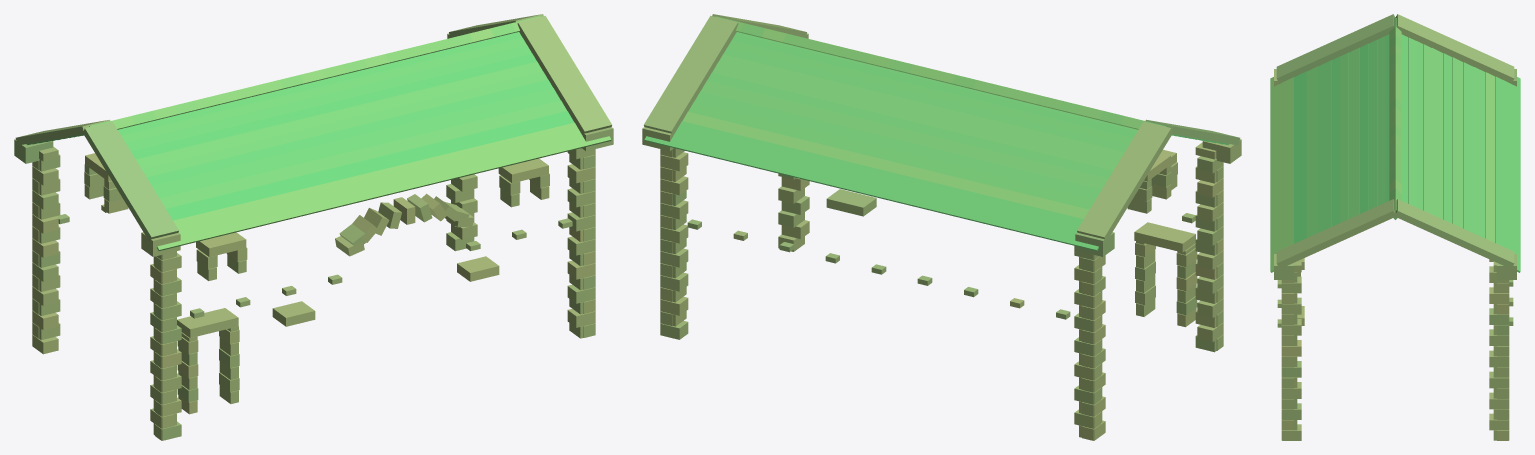
File: SM_Bld_095_Stone.glb
3 renders of one model, left to right at view 1: azimuth 30°, elevation 25°; view 2: azimuth 150°, elevation 25°; view 3: azimuth 270°, elevation 25°, orthographic. The views are drawn at different scales.
Visible parts, largest first — view 1: SM_Bld_095_Stone; view 2: SM_Bld_095_Stone; view 3: SM_Bld_095_Stone.
Part boxes in pixels (box(x1,y1,x2,y2)): SM_Bld_095_Stone: box(14, 14, 613, 440); SM_Bld_095_Stone: box(642, 14, 1241, 440); SM_Bld_095_Stone: box(1270, 14, 1520, 440).
Bounding box in the file's own units: 12.01 × 6.71 × 6.45.
